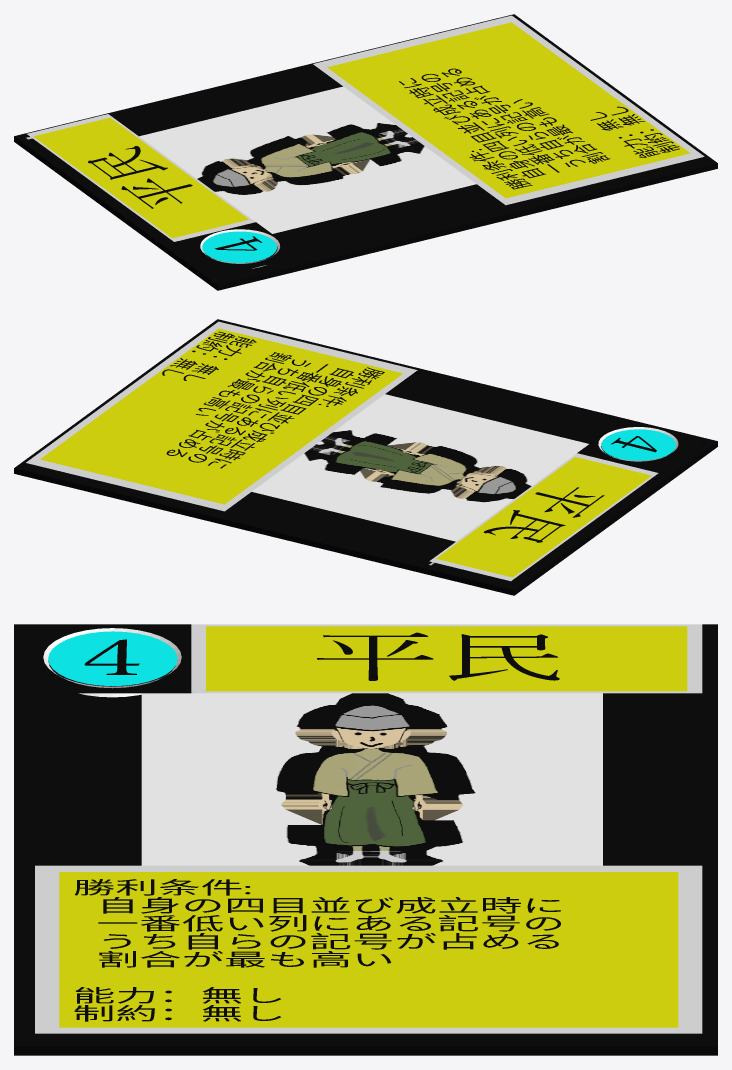
Rendered from 平民黒.fbx.
3 renders of one model, top to bottom at view 1: azimuth 30°, elevation 25°; view 2: azimuth 150°, elevation 25°; view 3: azimuth 270°, elevation 25°, orthographic. The views are drawn at different scales.
Parts seen in each view (by area): view 1: 説明欄, 平面.001, カード本体.001, 名前欄, 説明文, 円, 平面, 名前; view 2: 説明欄, 平面.001, カード本体.001, 名前欄, 説明文, 円, 平面, 名前; view 3: 説明欄, 平面.001, カード本体.001, 名前欄, 説明文, 平面, 円, 名前, コスト蘭.
Part boxes in pixels (x1,y1,x2,y2): 説明欄: [313, 15, 704, 205]; 平面.001: [139, 86, 476, 233]; カード本体.001: [14, 14, 717, 290]; 名前欄: [27, 114, 255, 241]; 説明文: [399, 68, 679, 189]; 円: [202, 231, 276, 262]; 平面: [174, 222, 302, 275]; 名前: [88, 146, 192, 208]; 説明欄: [26, 321, 417, 511]; 平面.001: [252, 394, 588, 541]; カード本体.001: [14, 319, 717, 595]; 名前欄: [429, 453, 658, 581]; 説明文: [162, 331, 384, 468]; 円: [601, 429, 675, 460]; 平面: [577, 419, 704, 472]; 名前: [483, 487, 604, 542]; 説明欄: [35, 865, 702, 1033]; 平面.001: [141, 693, 602, 865]; カード本体.001: [14, 624, 717, 1055]; 名前欄: [191, 624, 702, 693]; 説明文: [74, 879, 560, 1021]; 平面: [30, 624, 191, 693]; 円: [48, 631, 177, 686]; 名前: [317, 632, 559, 680]; コスト蘭: [43, 628, 181, 697].
Bounding box in the file's own units: 281 × 6.07 × 198.
